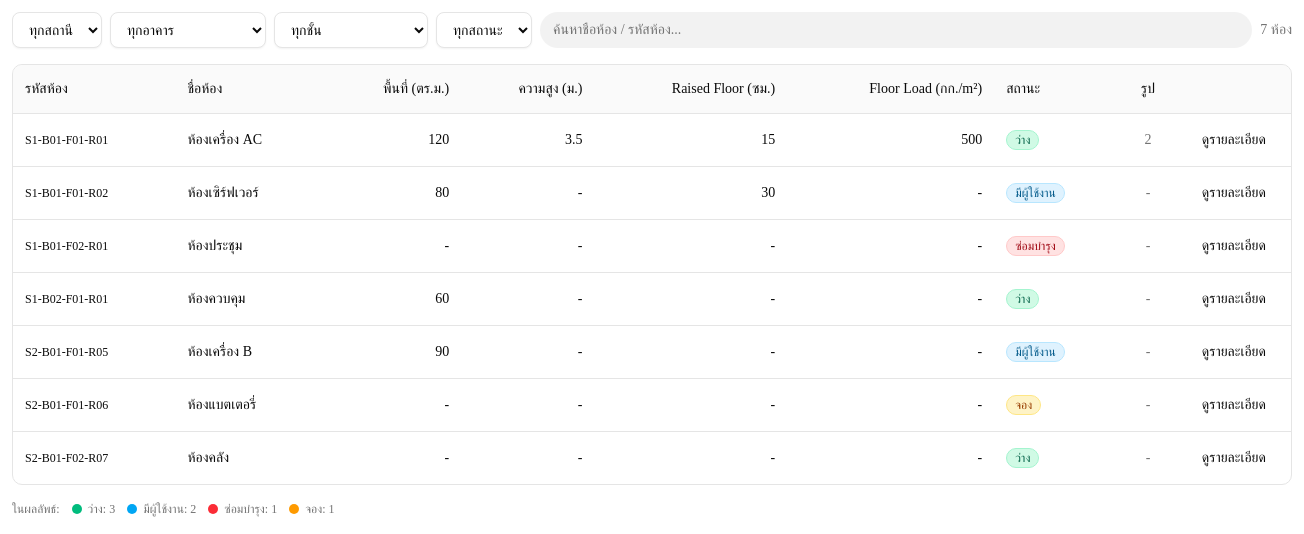
Test case: RoomsClient › filters rooms by site
Select "S1" in the 1st dropdown at (57, 30), box [12,12,102,48]
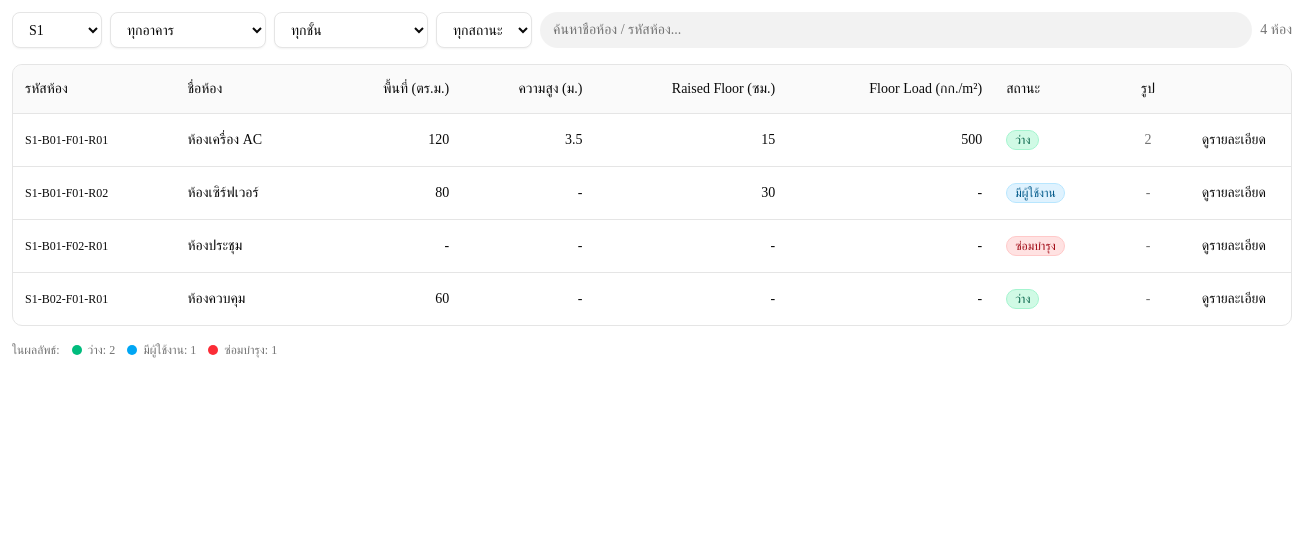
Check: the text "S1-B01-F01-R01" is shown, box [13,113,175,166]
Check: the text "4 ห้อง" is shown, box [1260,20,1292,40]
Check: the text "S2-B01-F01-R05" is gone
